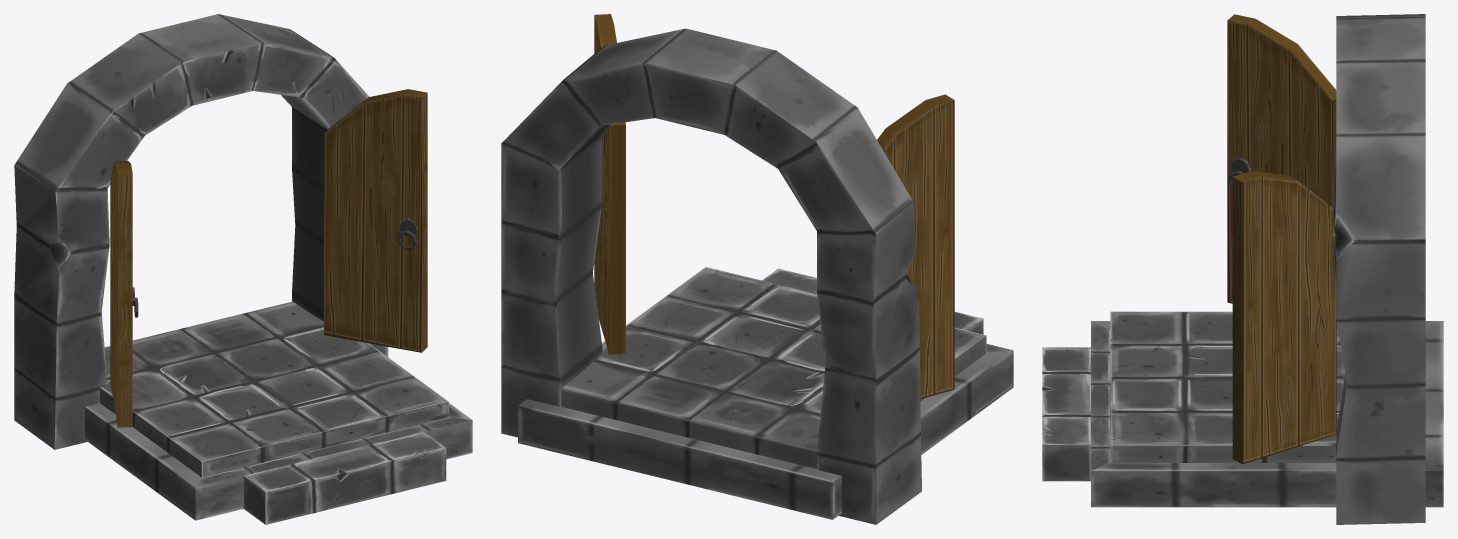
Rendered from Goal.fbx.
3 views of the same model, side by side, from view 1: azimuth 30°, elevation 25°; view 2: azimuth 150°, elevation 25°; view 3: azimuth 270°, elevation 25° (orthographic). The views are drawn at different scales.
Visible parts, largest first — view 1: group3; view 2: group3; view 3: group3.
Boxes of the visible parts, x1,y1,x2,y2 form: group3: [14, 14, 472, 524]; group3: [501, 14, 1013, 524]; group3: [1042, 14, 1443, 524].
Bounding box in the file's own units: 4.41 × 4.51 × 4.15.
1 material, 1 textured.
